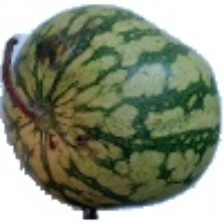watermelon: (58, 23, 207, 199)
